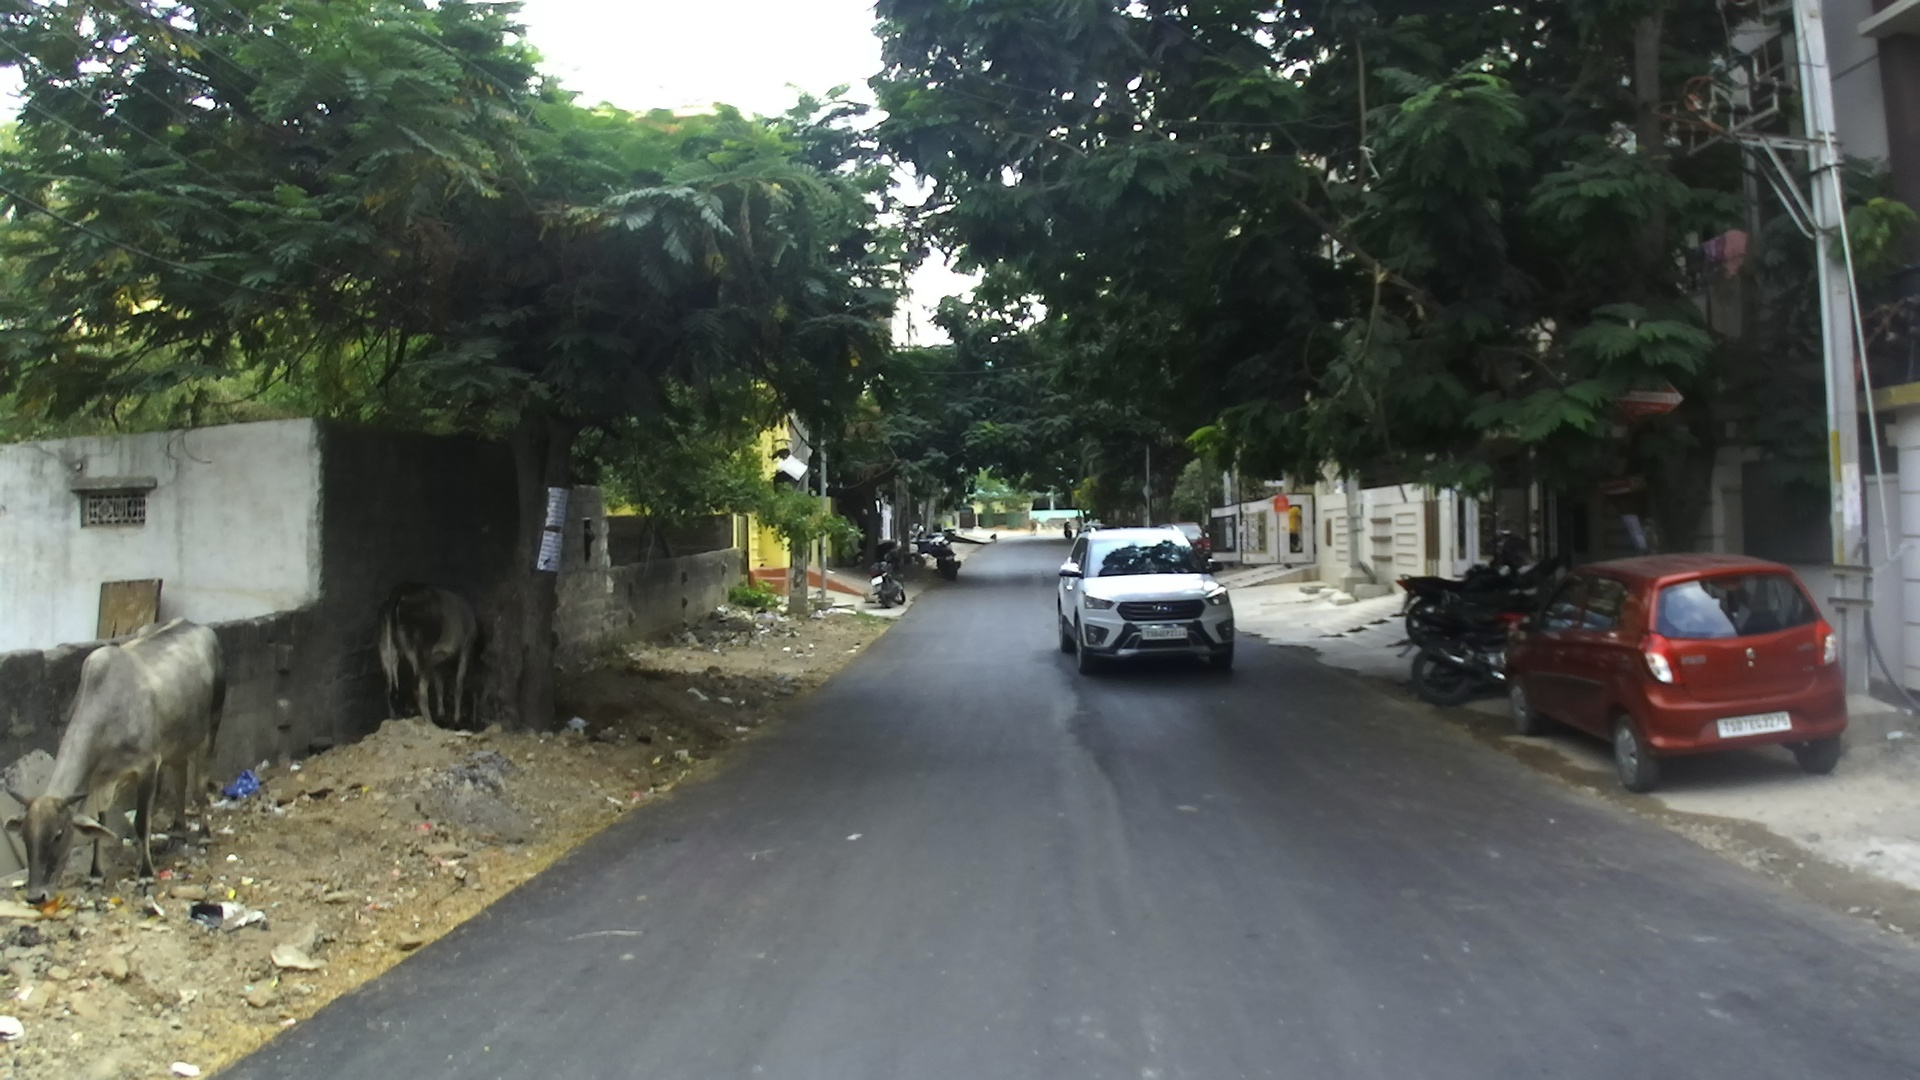vehicle: (0, 415, 546, 899), (1505, 549, 1850, 791), (1400, 553, 1578, 699), (1055, 535, 1238, 674)
